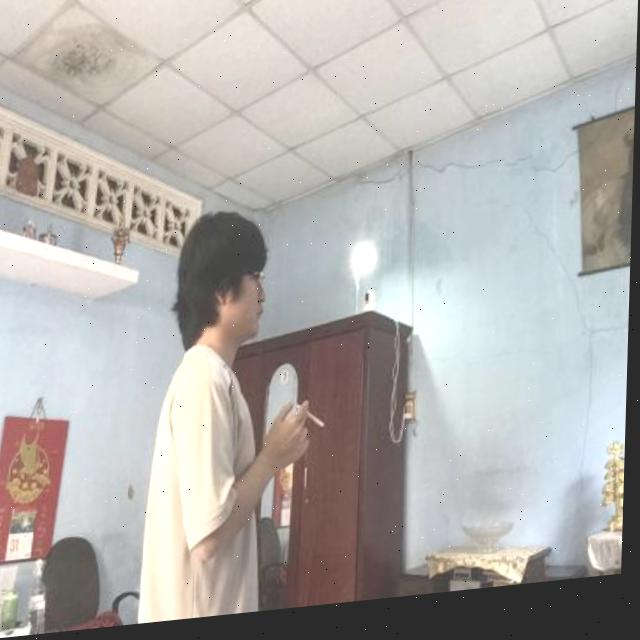cigarette: (298, 408, 329, 439)
